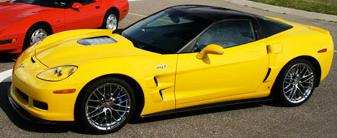front_view: (11, 36, 78, 123)
headlight: (34, 63, 80, 85)
side_glass: (190, 15, 265, 55)
